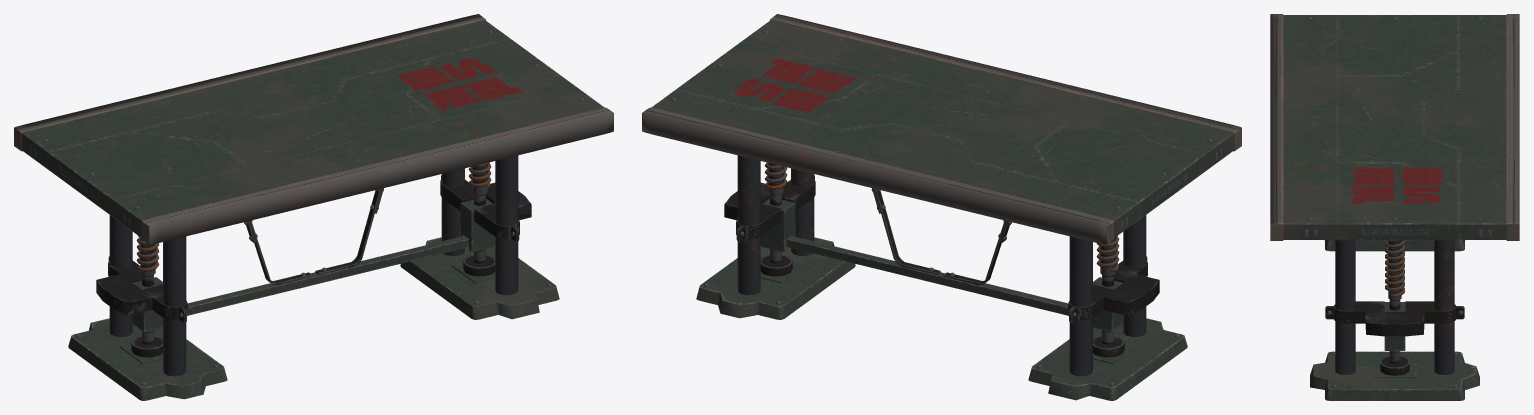
The picture shows the model from 3 angles, left to right: view 1: azimuth 30°, elevation 25°; view 2: azimuth 150°, elevation 25°; view 3: azimuth 270°, elevation 25°; orthographic projection. The views are drawn at different scales.
Visible parts, largest first — view 1: table_low; view 2: table_low; view 3: table_low.
Boxes of the visible parts, box(x1,y1,x2,y2) form: table_low: box(14, 14, 613, 400); table_low: box(642, 14, 1241, 400); table_low: box(1270, 14, 1519, 400).
Size of the model in its own units: 2 by 0.8377 by 1.
2 materials, 2 textured.
